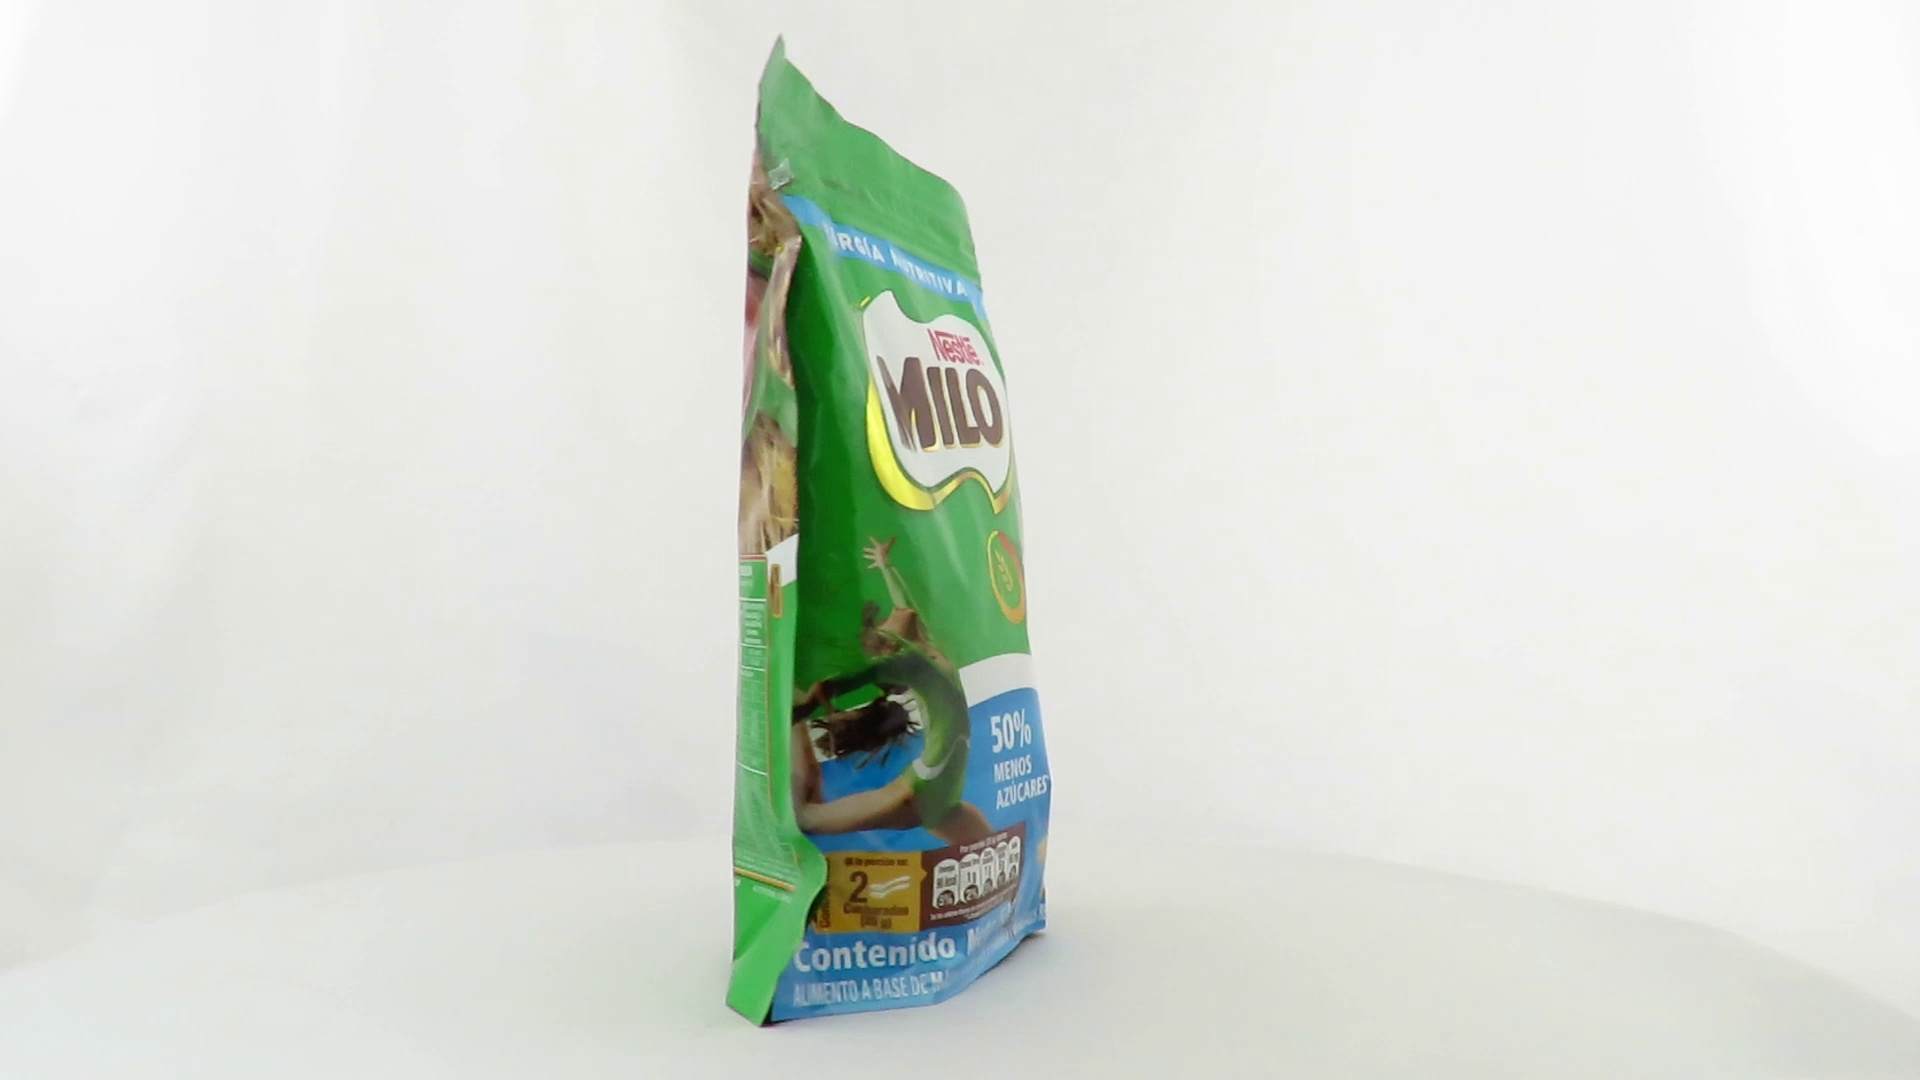COL0170205DYP50000: (720, 28, 1058, 1034)
